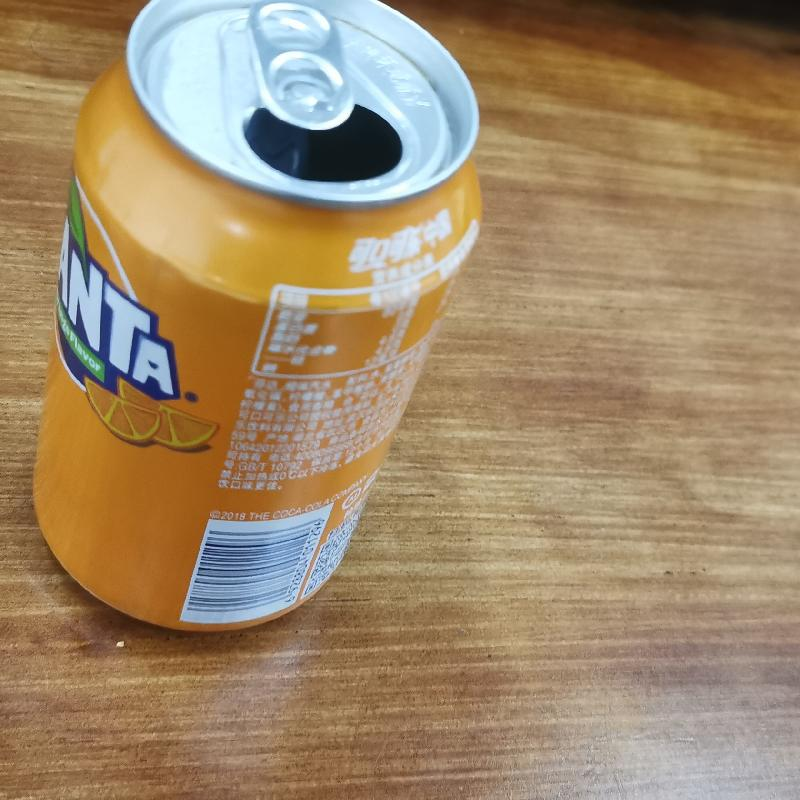cans: (26, 0, 489, 640)
